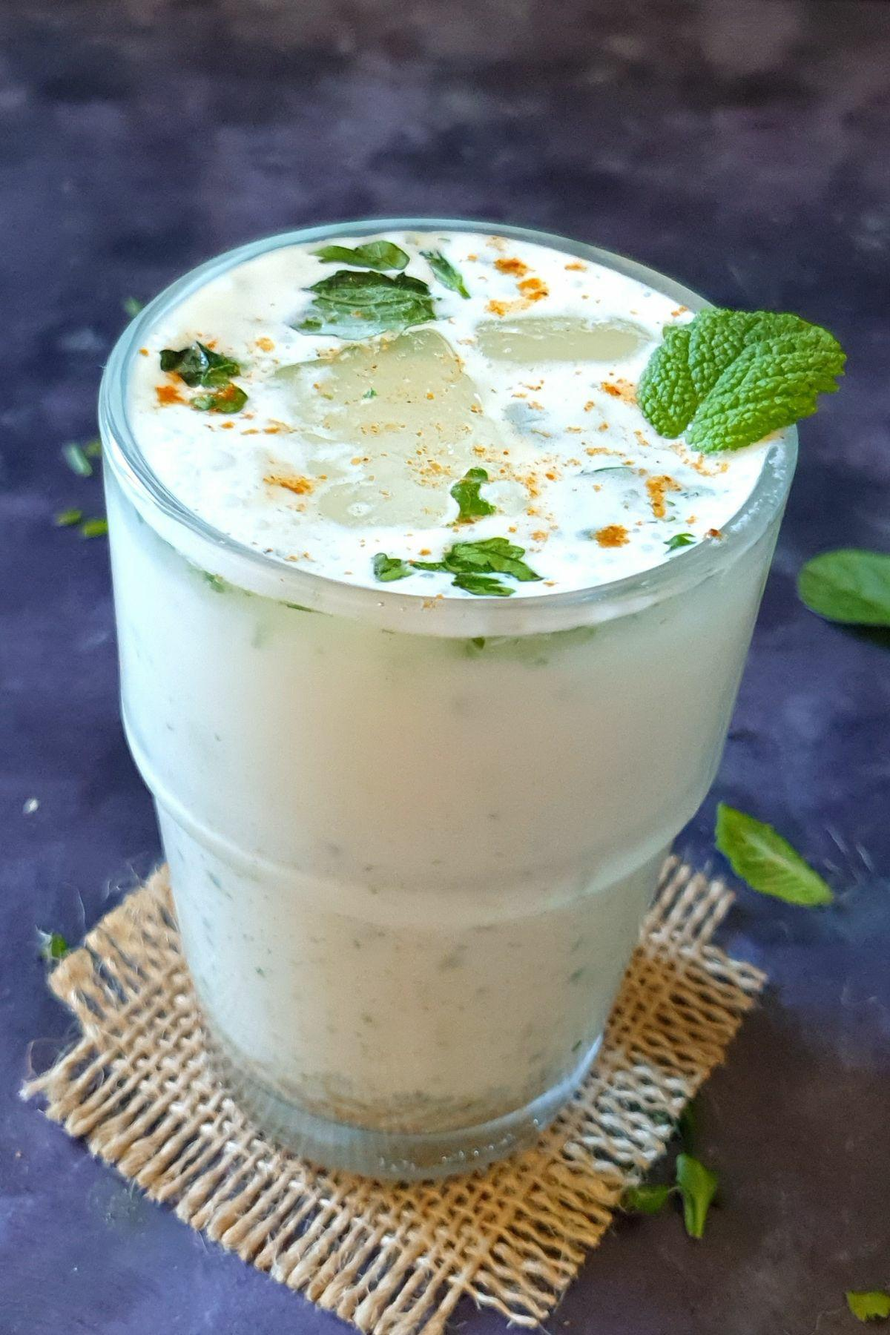Lassi: (105, 230, 775, 1136)
